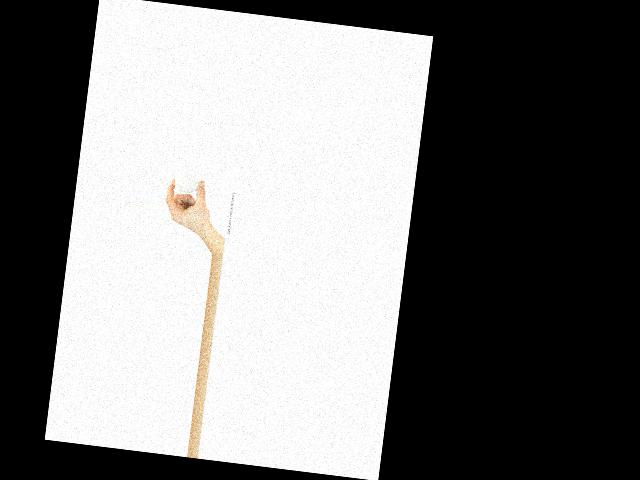egg: (173, 174, 200, 194)
